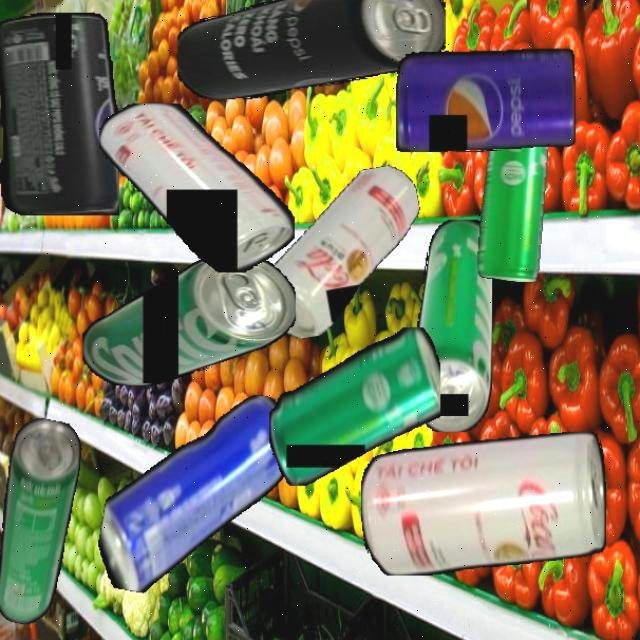debris: (92, 372, 300, 614), (242, 162, 438, 344), (360, 431, 607, 575), (99, 102, 295, 272), (81, 254, 296, 386), (268, 326, 441, 486), (176, 0, 445, 99), (0, 12, 119, 215), (395, 48, 576, 152), (0, 415, 87, 628), (411, 219, 492, 432), (476, 122, 548, 282)
